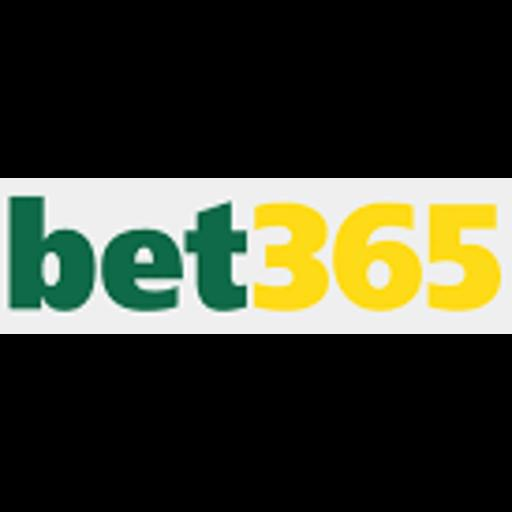Bet365: (0, 178, 512, 334)
